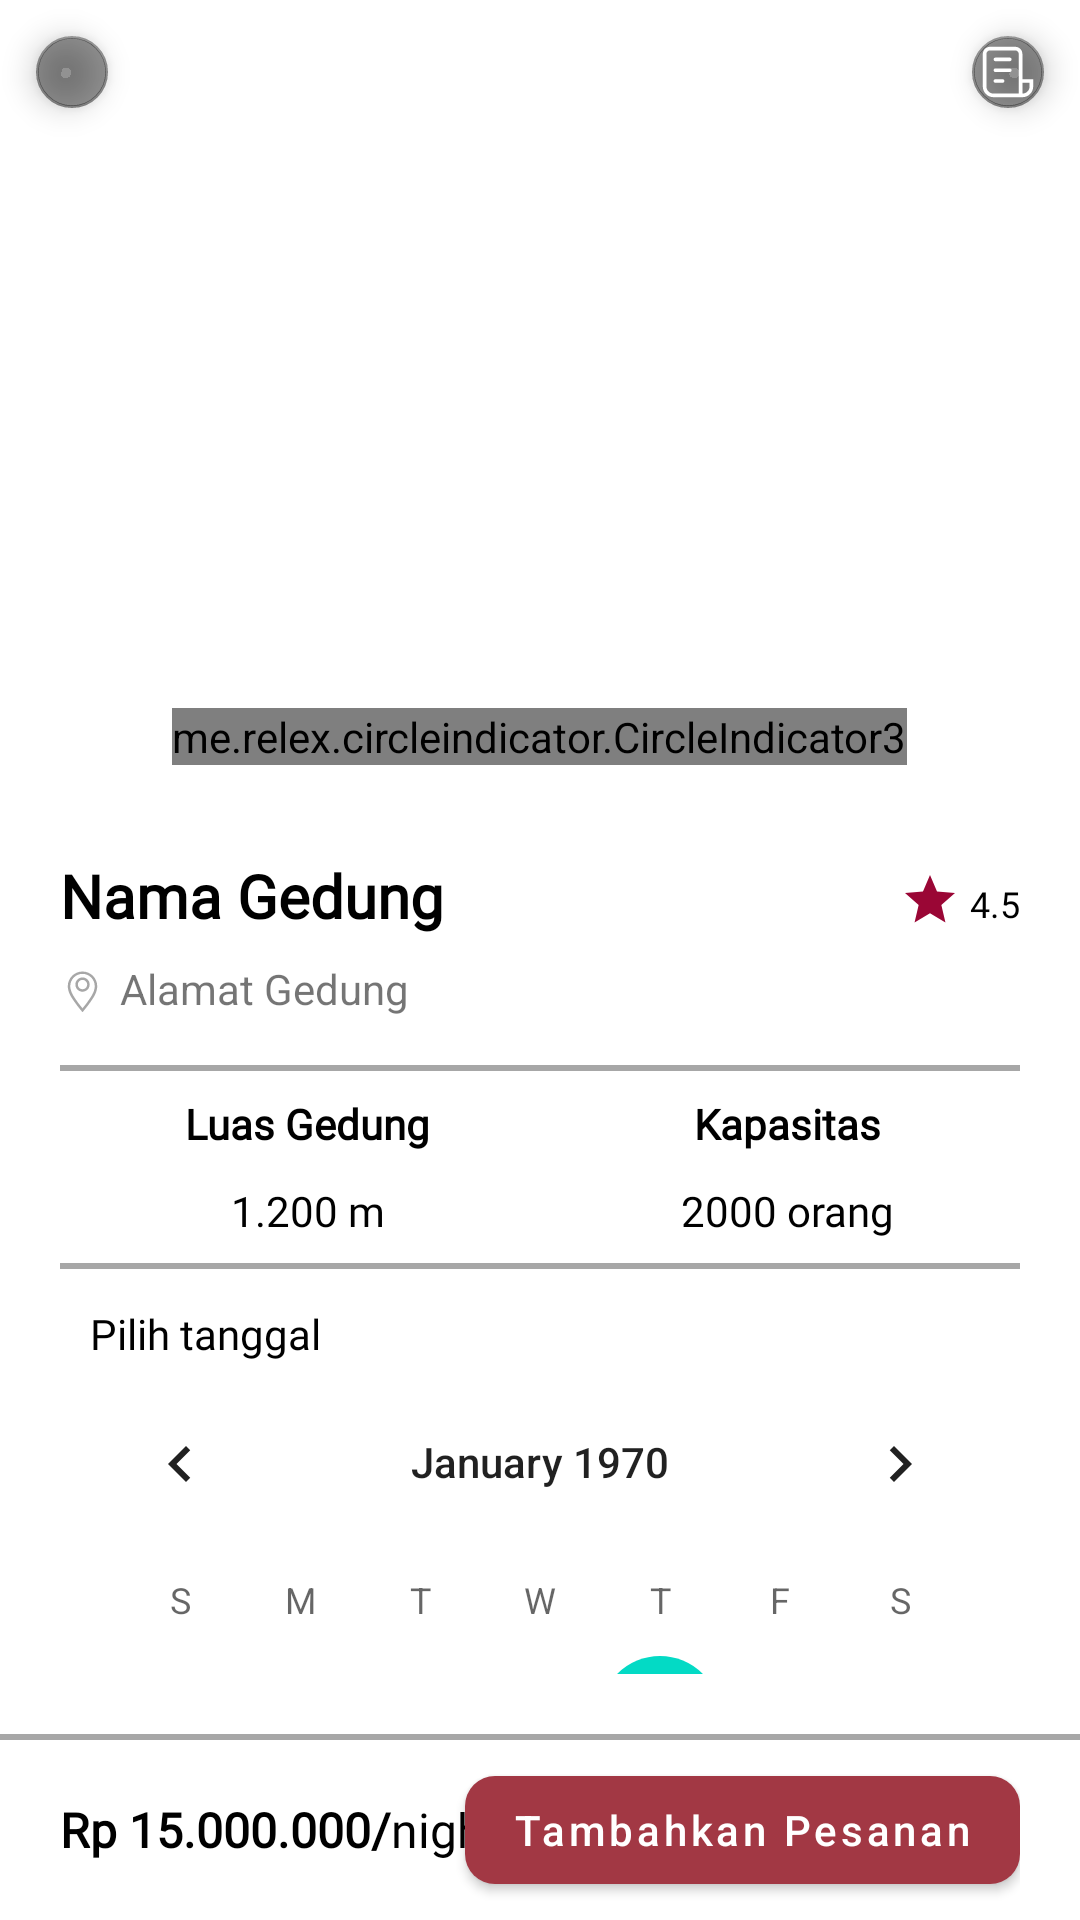

Icon click points for this 1080px×1920px phone screenshot, format point (x, y):
map marker: point (82, 991)
star: point (930, 899)
